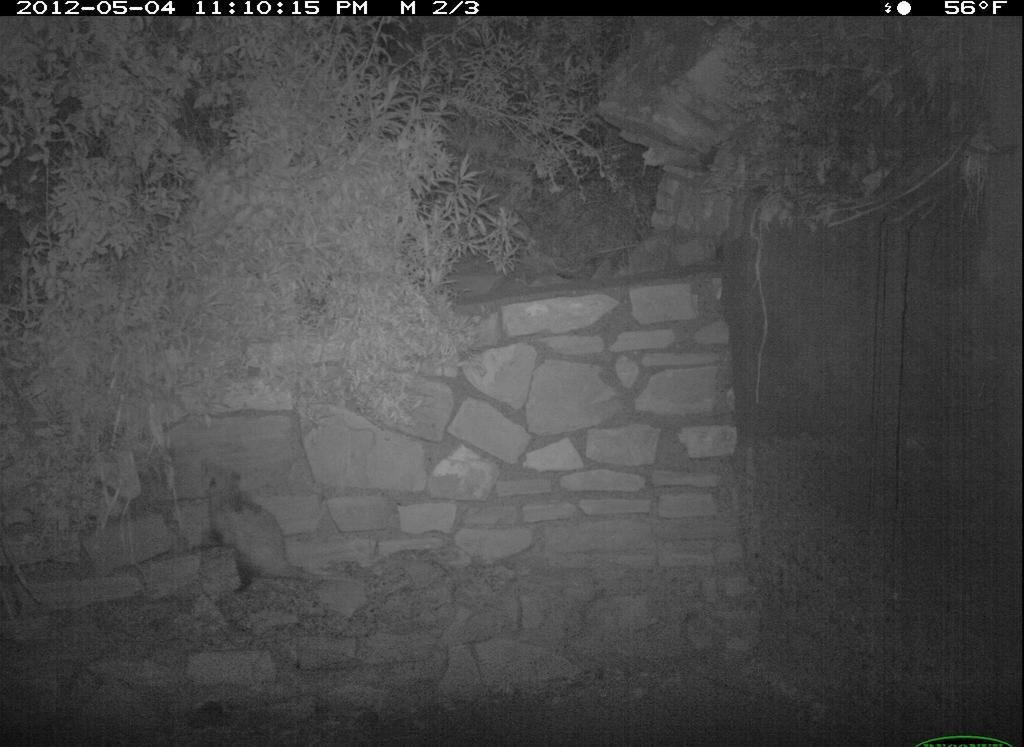opossum: (191, 463, 327, 598)
